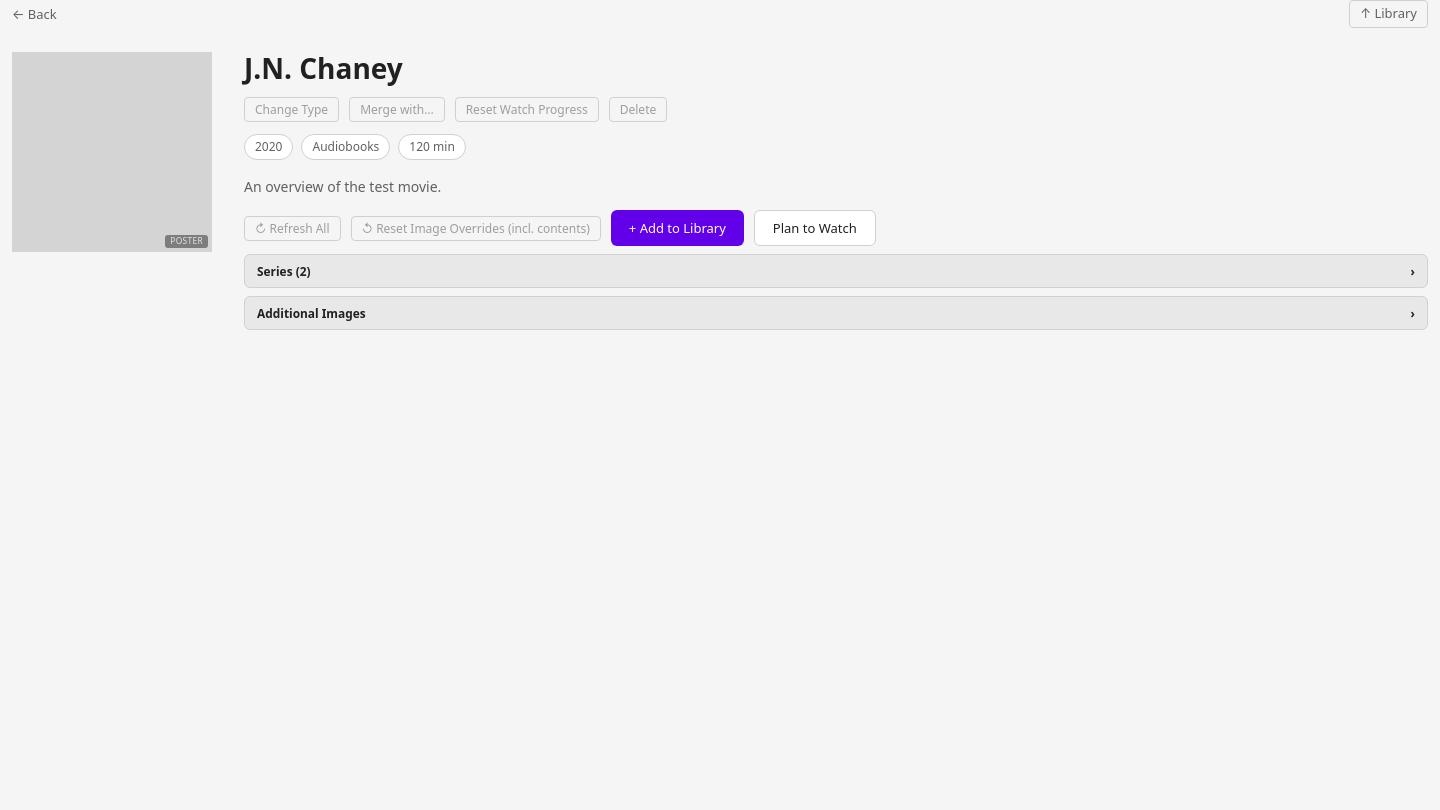
MediaDetailPage › labels the children that hold items "Series" on an author page, and leaves standalone books alone
Expected: the heading "J.N. Chaney" is shown, 244,48 -> 403,86
Click the button "Series (2) ›". click: [284, 271]
box: 244,254 -> 1428,288
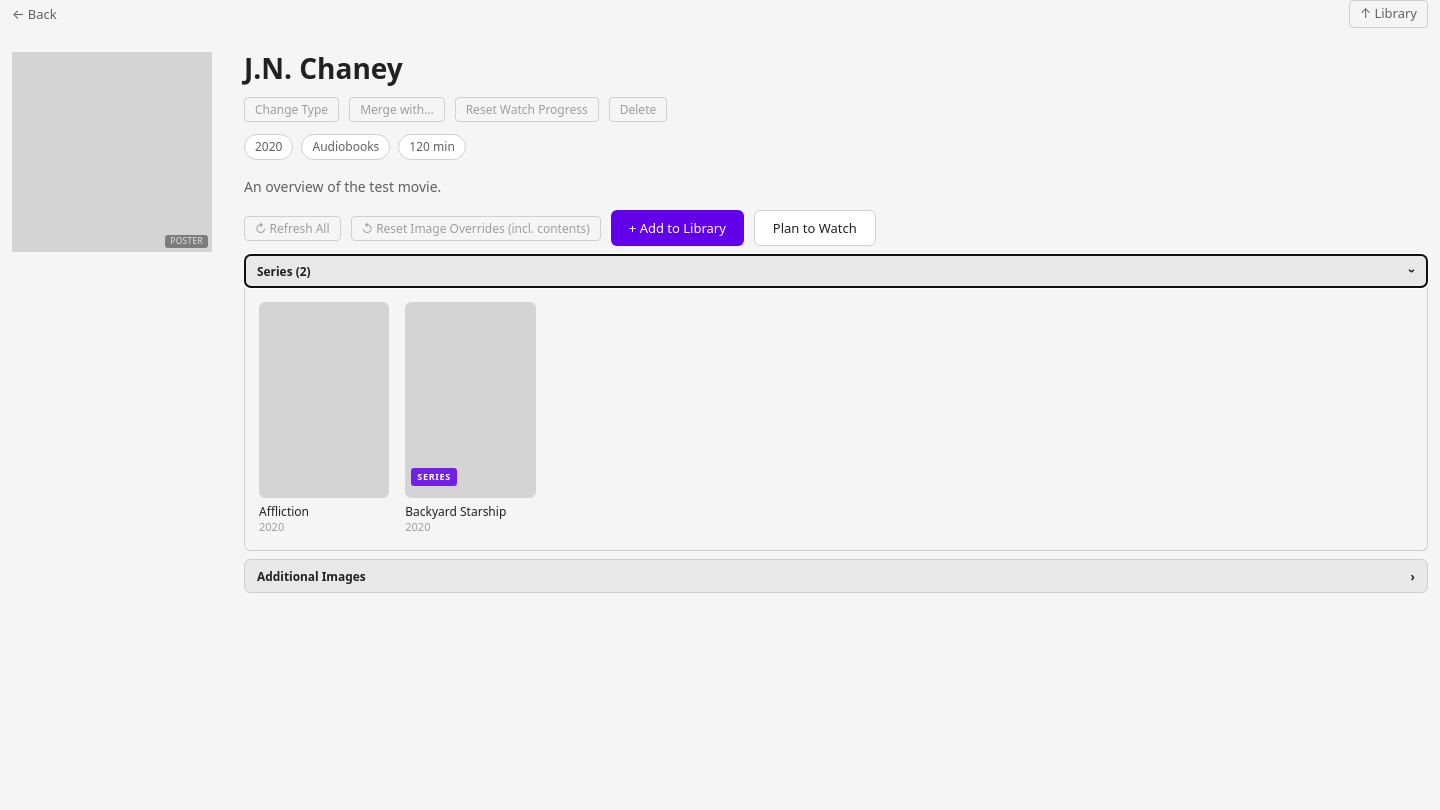
Expected: the text "Series" is shown, 411,468 -> 457,486
